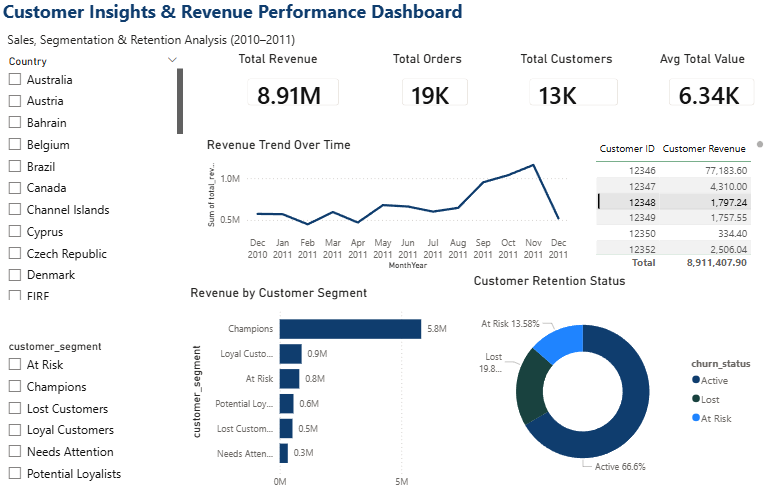

This screenshot's page, from the dashboard's own definition file:
{"tool":"powerbi","page":{"name":"Page 1","canvas":[1280,720],"ordinal":0},"visuals":[{"type":"cardVisual","title":"Total Revenue","fields":{"Data":["Sum(monthly_performance_summary.total_revenue)"]},"box":[326,120,156,90],"z":0},{"type":"cardVisual","title":"Total Orders","fields":{"Data":["Sum(monthly_performance_summary.total_orders)"]},"box":[532,120,122,90],"z":1000},{"type":"cardVisual","title":"Total Customers","fields":{"Data":["Sum(monthly_performance_summary.total_customers)"]},"box":[702,120,152,90],"z":2000},{"type":"cardVisual","title":"Avg Total Value","fields":{"Data":["Sum(monthly_performance_summary.average_order_value)"]},"box":[888,120,148,90],"z":3000},{"type":"lineChart","title":"Revenue Trend Over Time","fields":{"Category":["monthly_performance_summary.MonthYear"],"Y":["Sum(monthly_performance_summary.total_revenue)"]},"box":[284,234,494,182],"z":4000},{"type":"barChart","title":"Revenue by Customer Segment","fields":{"Category":["segment_summary.customer_segment"],"Y":["Sum(segment_summary.total_revenue)"]},"box":[262,432,362,280],"z":5000},{"type":"donutChart","title":"Customer Retention Status","fields":{"Category":["Churn Summary.churn_status"],"Y":["Sum(Churn Summary.Customer Count)"]},"box":[640,416,396,296],"z":6000},{"type":"tableEx","fields":{"Values":["customer_rfm_segments.customerid","Sum(customer_rfm_segments.monetary)"]},"box":[802,234,234,182],"z":7000},{"type":"slicer","fields":{"Values":["clean_transactions.country"]},"box":[12,120,250,336],"z":8000},{"type":"slicer","fields":{"Values":["customer_rfm_segments.customer_segment"]},"box":[12,500,250,212],"z":9000},{"type":"textbox","box":[12,44,628,44],"z":10000},{"type":"textbox","box":[18,88,406,32],"z":10001}]}

Visuals, with their boxes on the page's 1280x720 design canvas (x1, y1, x2, y2). These are canvas units, not pixel positions in the 780x493 screenshot, which may show the page scaled, cropped or inside an application window:
"Total Revenue" cardVisual: bbox(326, 120, 482, 210)
"Total Orders" cardVisual: bbox(532, 120, 654, 210)
"Total Customers" cardVisual: bbox(702, 120, 854, 210)
"Avg Total Value" cardVisual: bbox(888, 120, 1036, 210)
"Revenue Trend Over Time" lineChart: bbox(284, 234, 778, 416)
"Revenue by Customer Segment" barChart: bbox(262, 432, 624, 712)
"Customer Retention Status" donutChart: bbox(640, 416, 1036, 712)
tableEx - customer_rfm_segments.customerid x Sum(customer_rfm_segments.monetary): bbox(802, 234, 1036, 416)
slicer - clean_transactions.country: bbox(12, 120, 262, 456)
slicer - customer_rfm_segments.customer_segment: bbox(12, 500, 262, 712)
textbox: bbox(12, 44, 640, 88)
textbox: bbox(18, 88, 424, 120)
